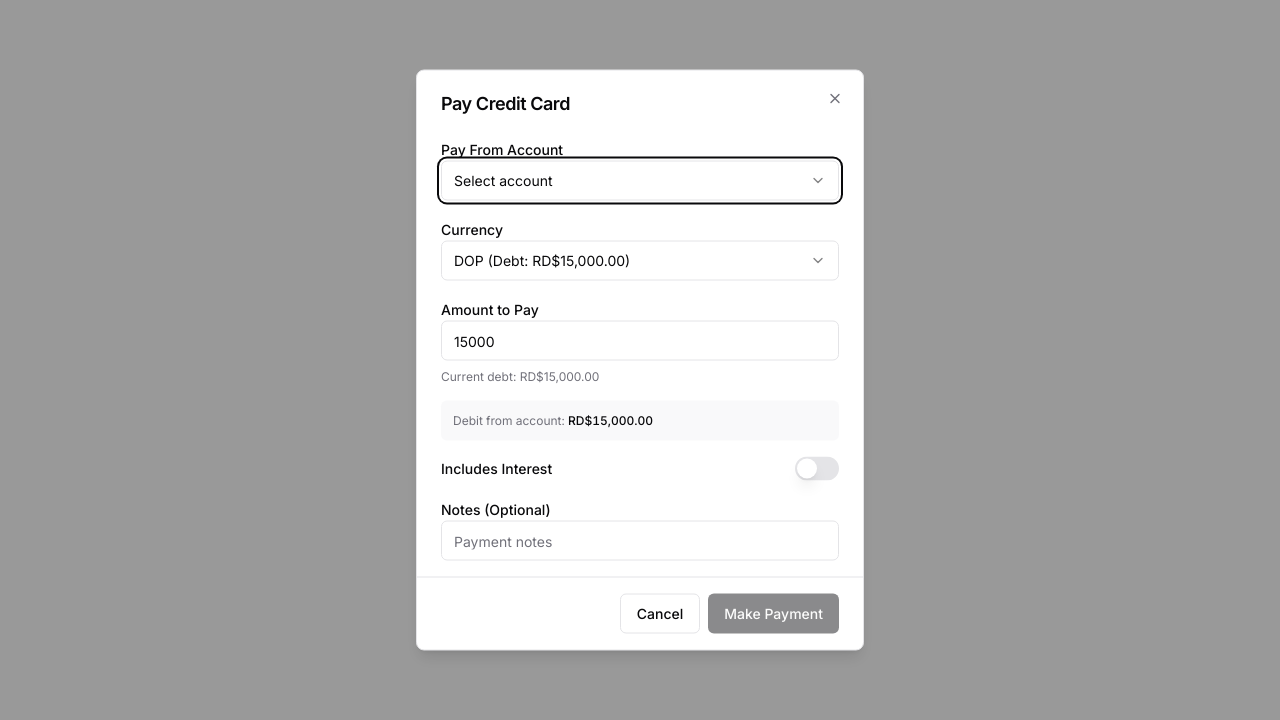
Scenario: PaymentModal › shows the translated INSUFFICIENT_FUNDS message inline and keeps the modal open
Click the dropdown labelled "Select account": (503, 180) [441,160,839,200]
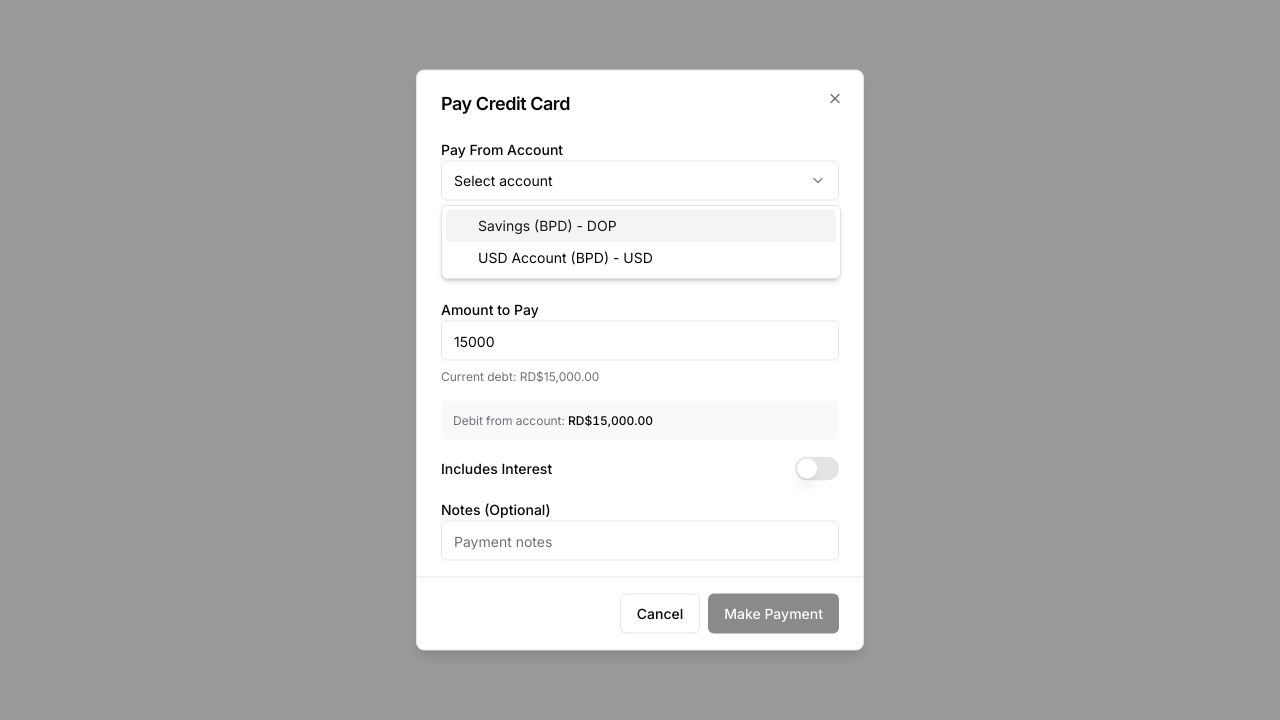
Click the option "Savings (BPD) - DOP": (504, 226) [446,210,836,242]
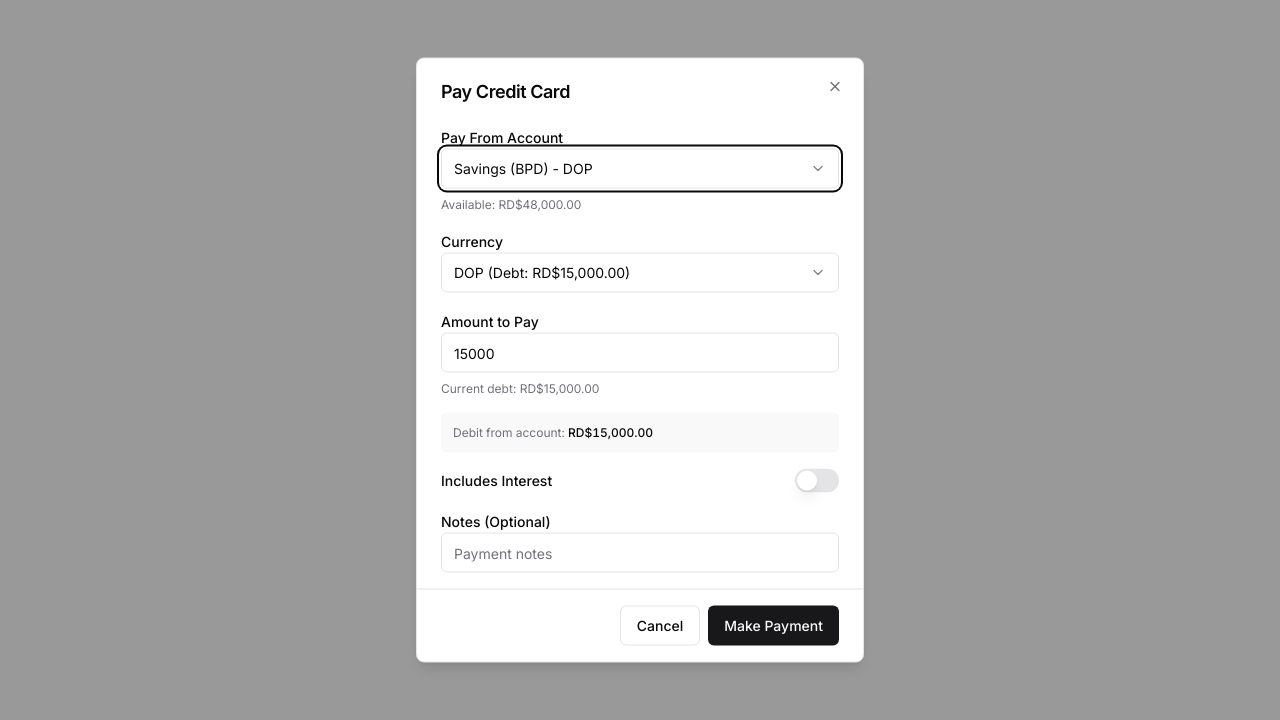
Check: the button "Make Payment" is enabled
Click the button "Make Payment": (774, 626) [708,606,839,646]
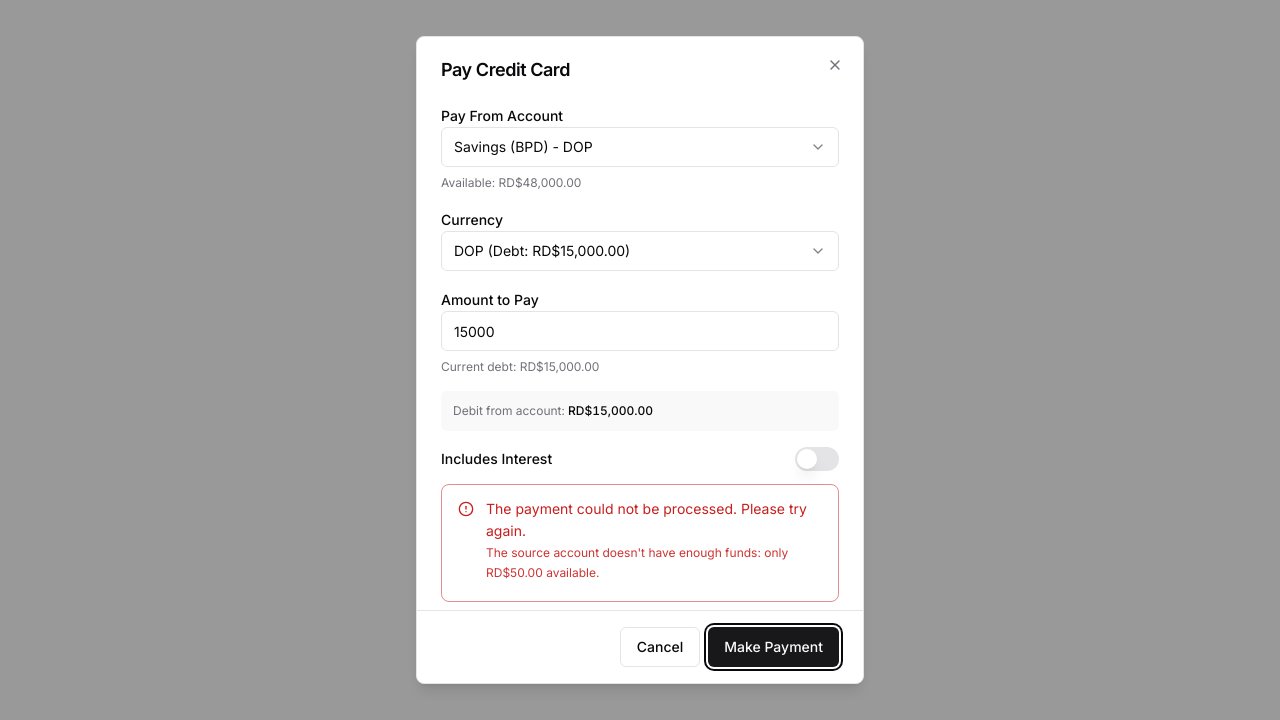
Check: the text "The source account doesn't have enough funds: only RD$50.00 available." is shown, box [486,543,822,582]
